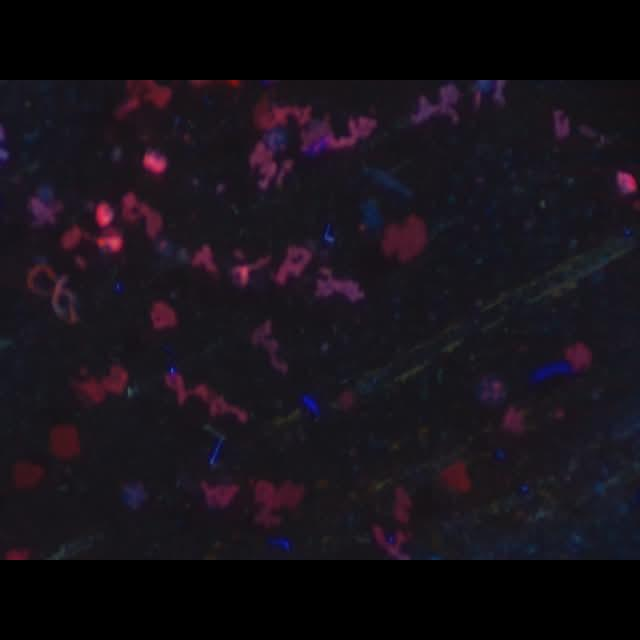Fragment: (255, 480, 304, 526)
